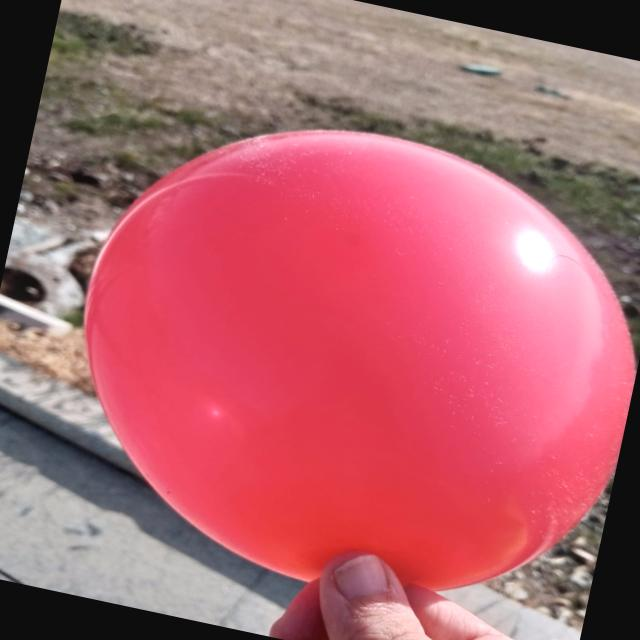balloon: (84, 130, 635, 591)
